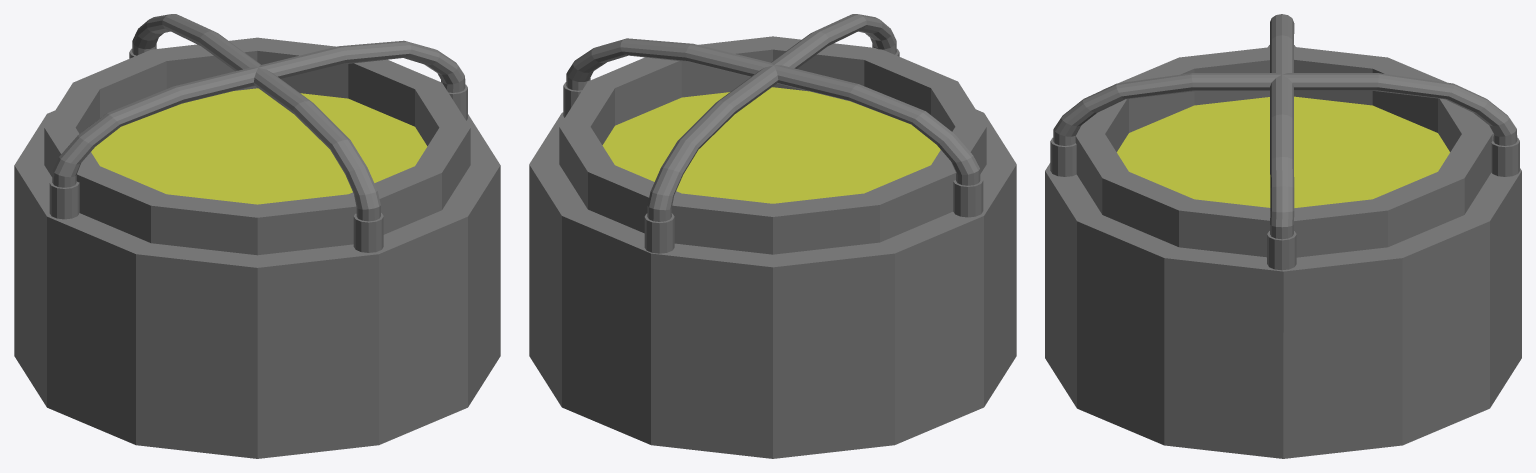
The model's file is part1blend.fbx.
The picture shows the model from 3 angles, left to right: view 1: azimuth 30°, elevation 25°; view 2: azimuth 150°, elevation 25°; view 3: azimuth 270°, elevation 25°; orthographic projection. The views are drawn at different scales.
Parts seen in each view (by area): view 1: part1; view 2: part1; view 3: part1.
Boxes of the visible parts, <box> form: part1: <box>14,14,500,458</box>; part1: <box>529,14,1016,458</box>; part1: <box>1045,14,1521,458</box>.
Bounding box in the file's own units: 46 × 30.19 × 46.
